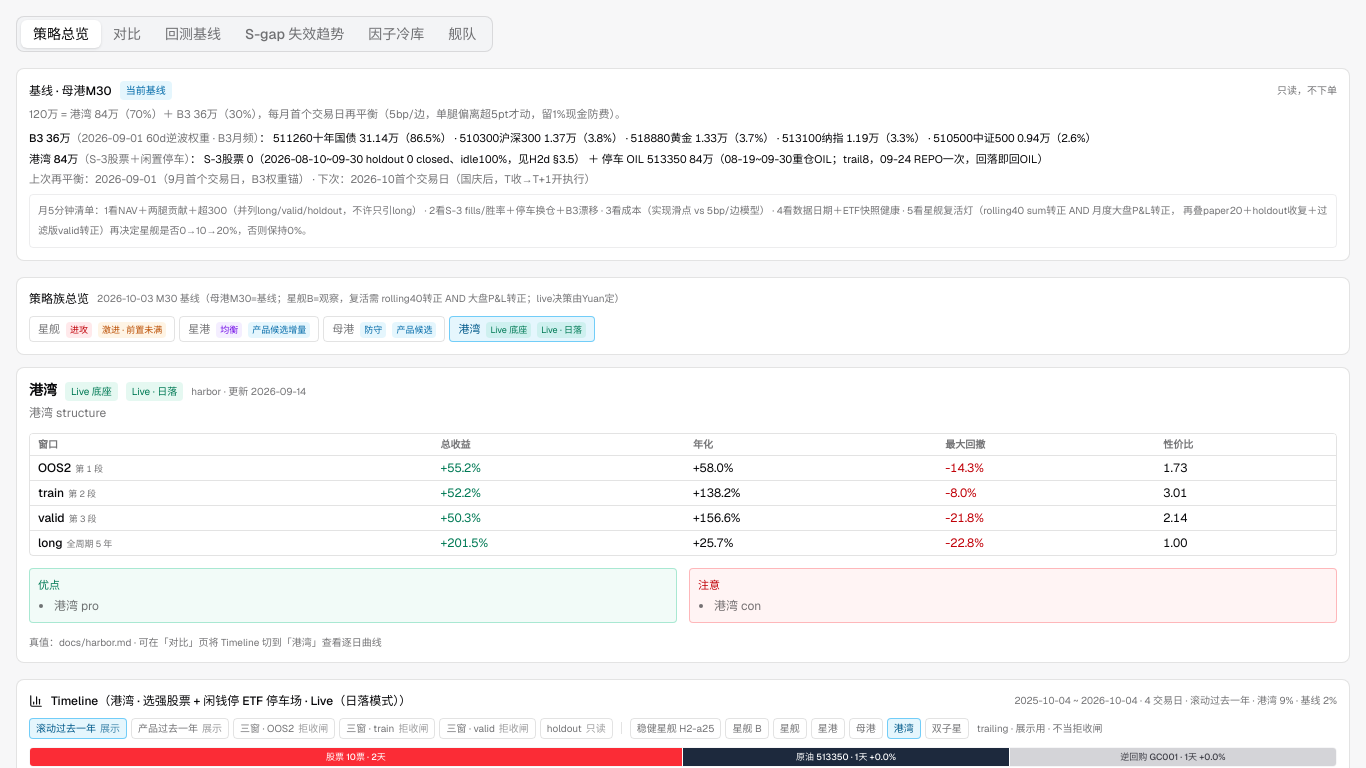
Test: BacktestPage › shows the selected strategy timeline under the catalog panel
The image size is (1366, 768).
expect the text "Timeline（港湾" is shown: met, box [29,692,1337,710]
Click the button "均衡".
click(249, 329)  # box [179,316,319,342]
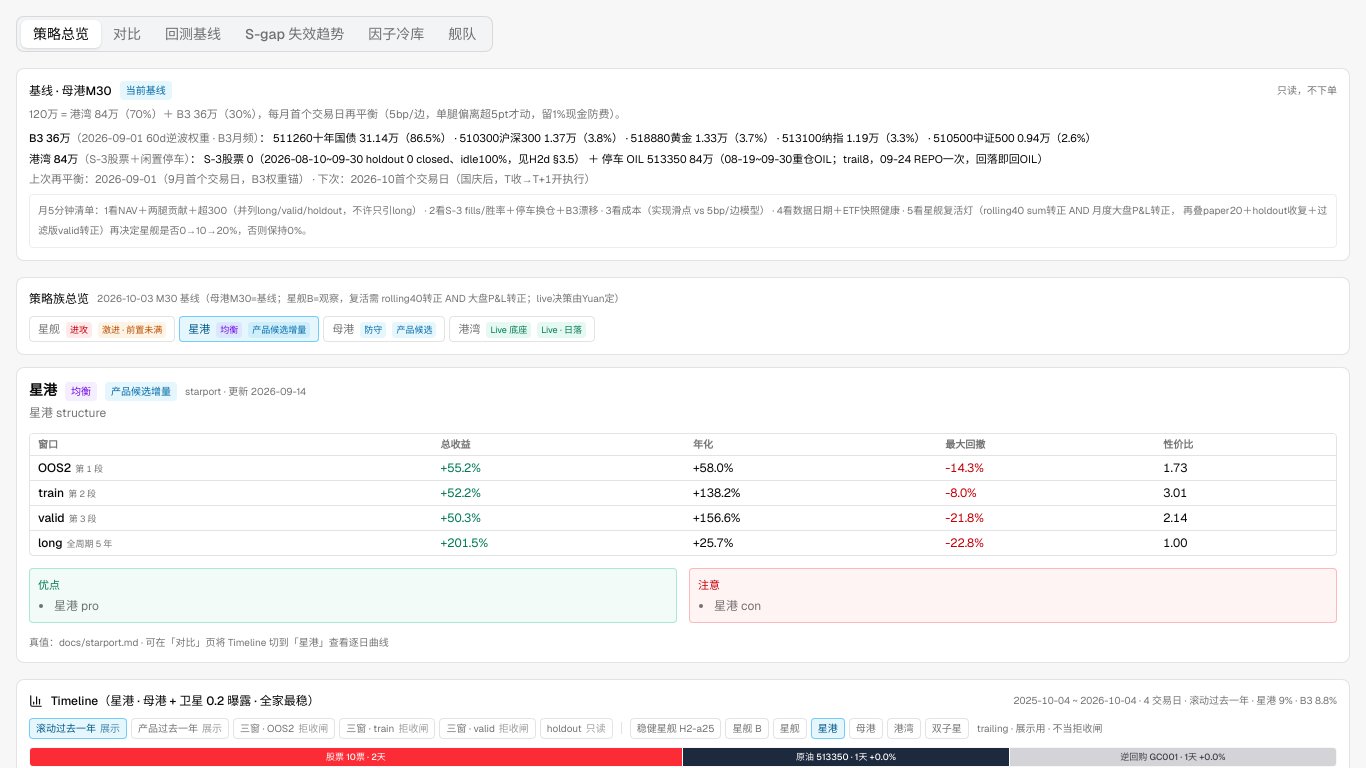
expect the text "Timeline（星港" is shown: met, box [29,692,1337,710]
Click the button "进攻".
click(102, 329)  # box [29,316,175,342]
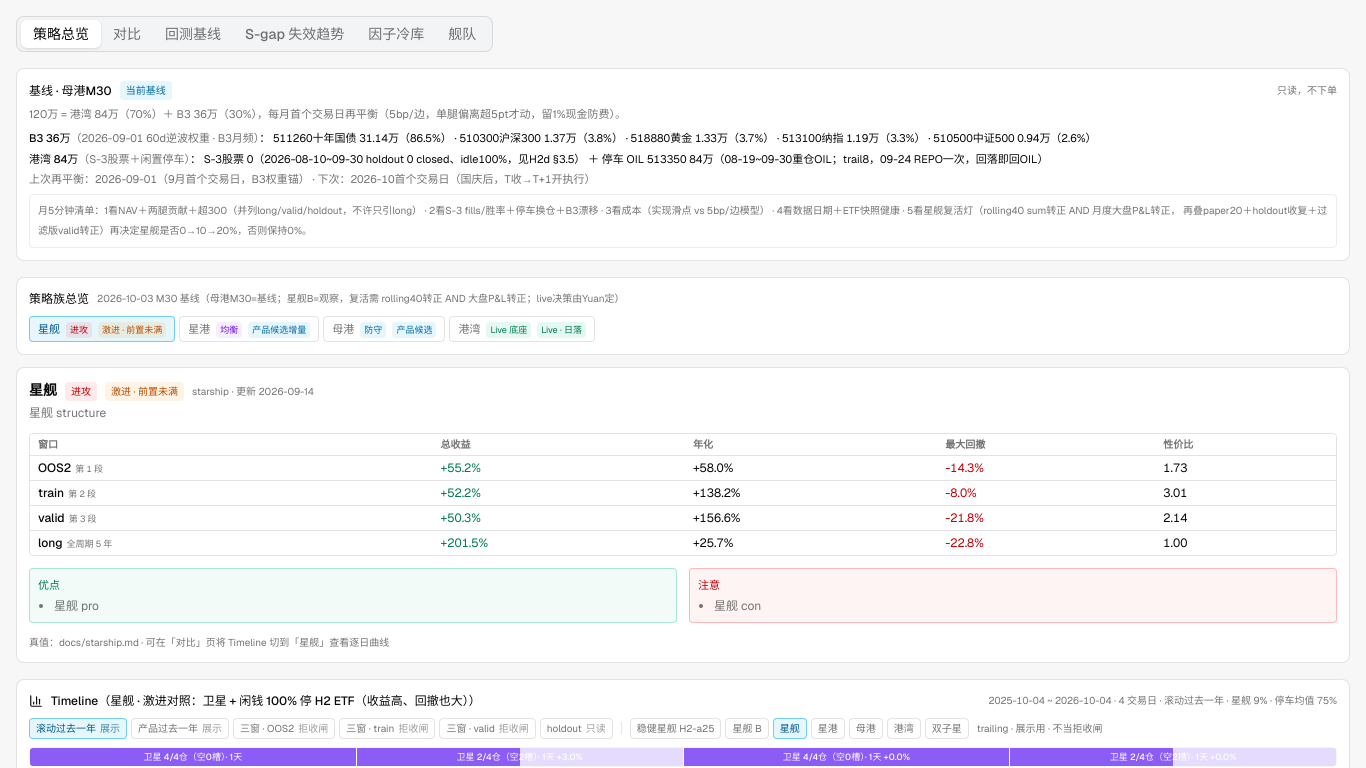
expect the text "Timeline（星舰" is shown: met, box [29,692,1337,710]
Click the button "防守".
click(384, 329)  # box [323,316,445,342]
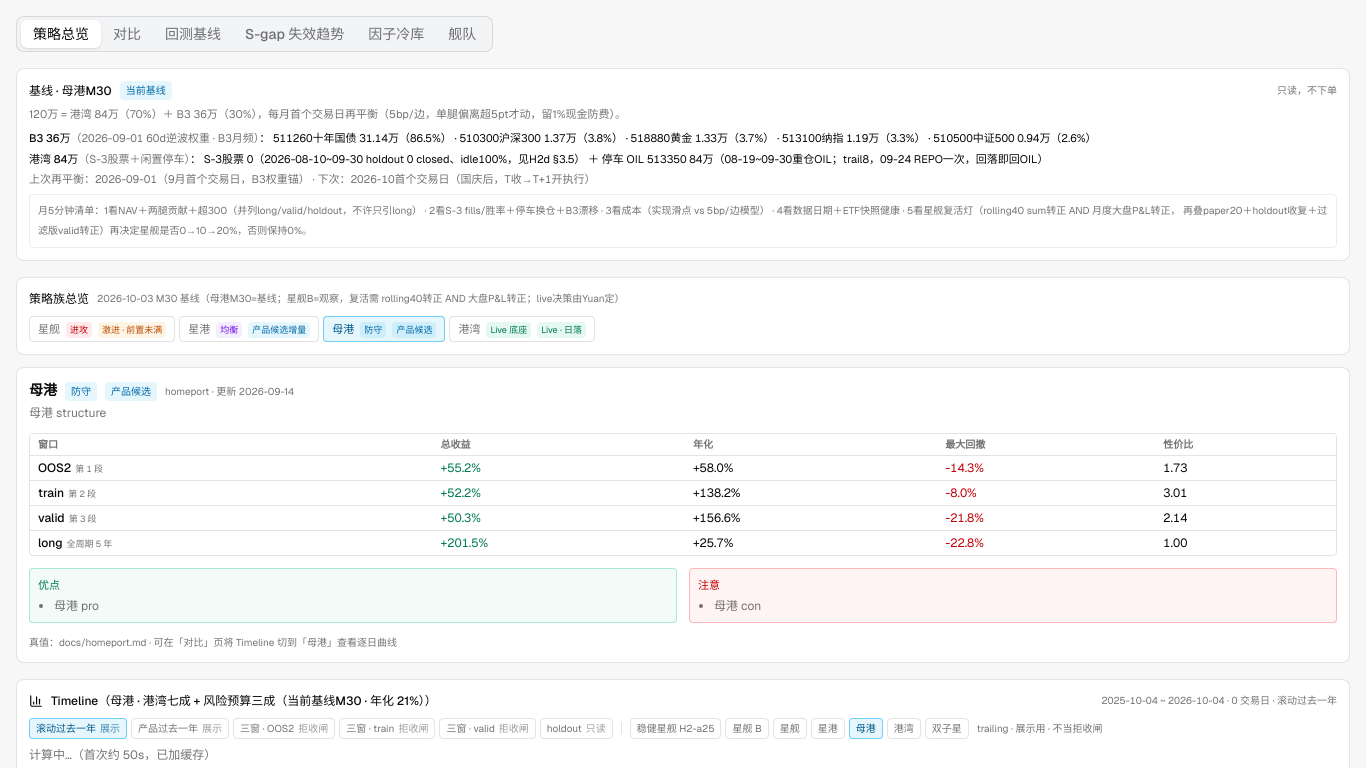
expect the text "Timeline（母港" is shown: met, box [29,692,1337,710]
Click the button "双子星".
click(947, 728)  # box [925,718,969,739]
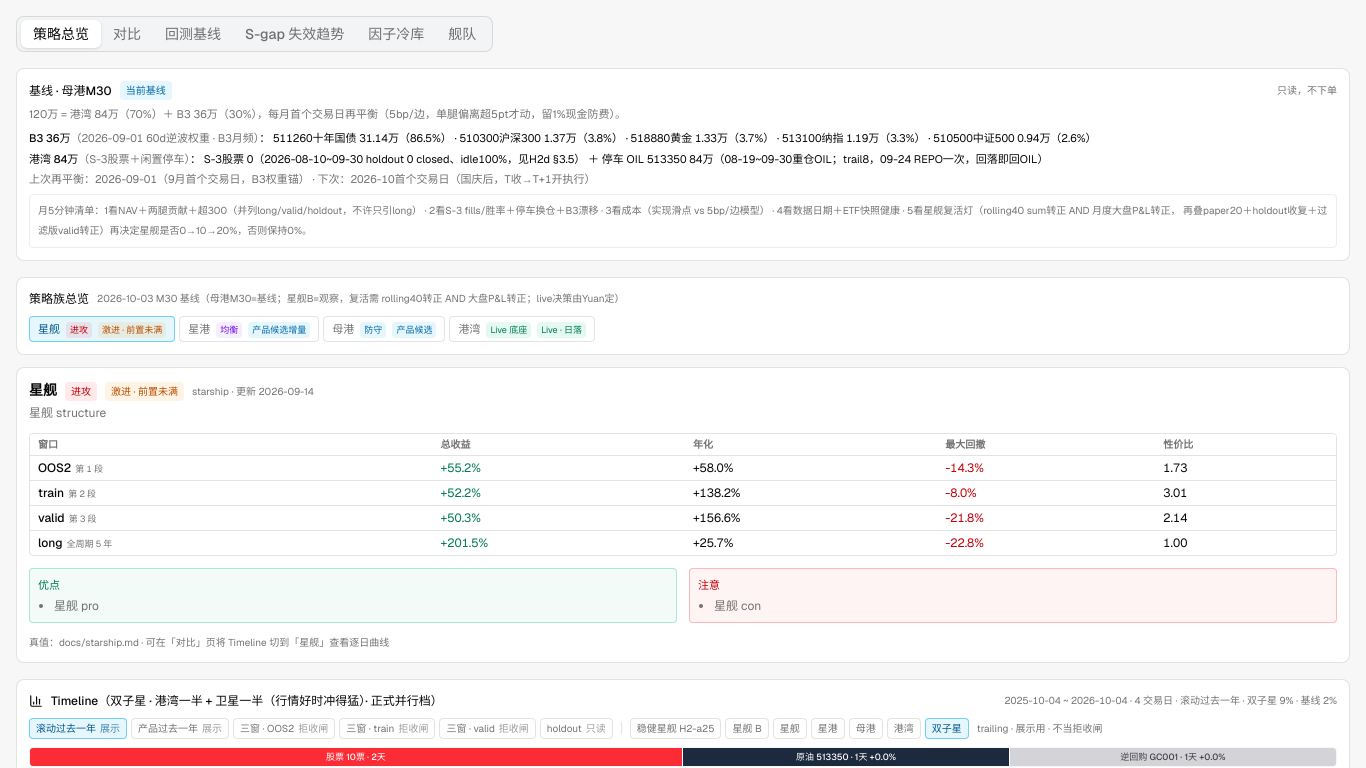
expect the text "Timeline（双子星" is shown: met, box [29,692,1337,710]
